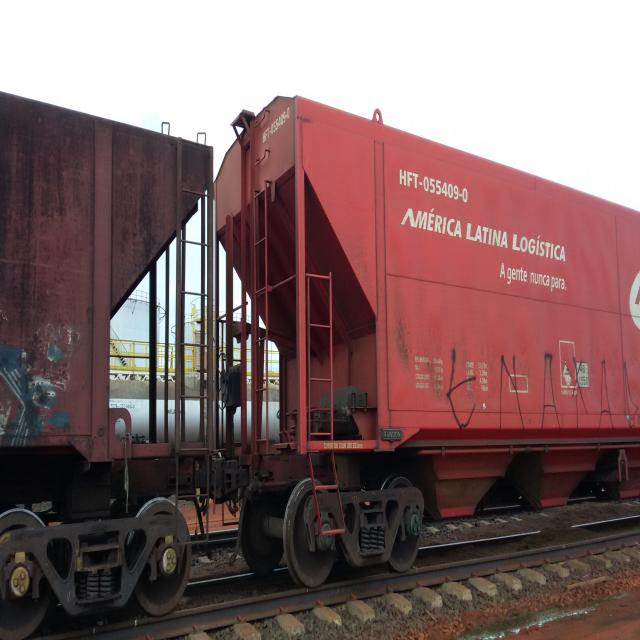hopper: (214, 91, 640, 579), (0, 79, 216, 616)
